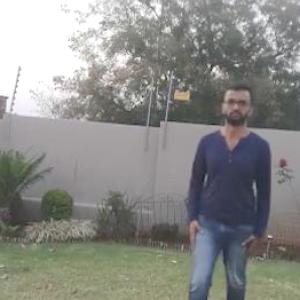follow: (189, 93, 267, 299)
